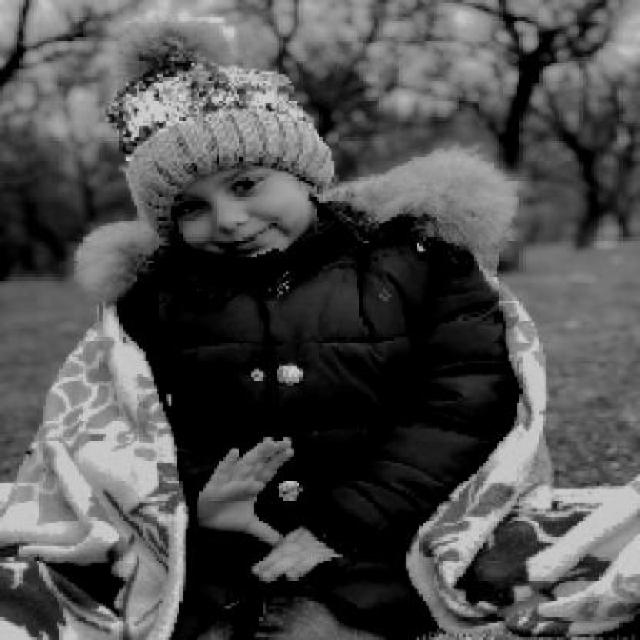child: (103, 14, 523, 637)
